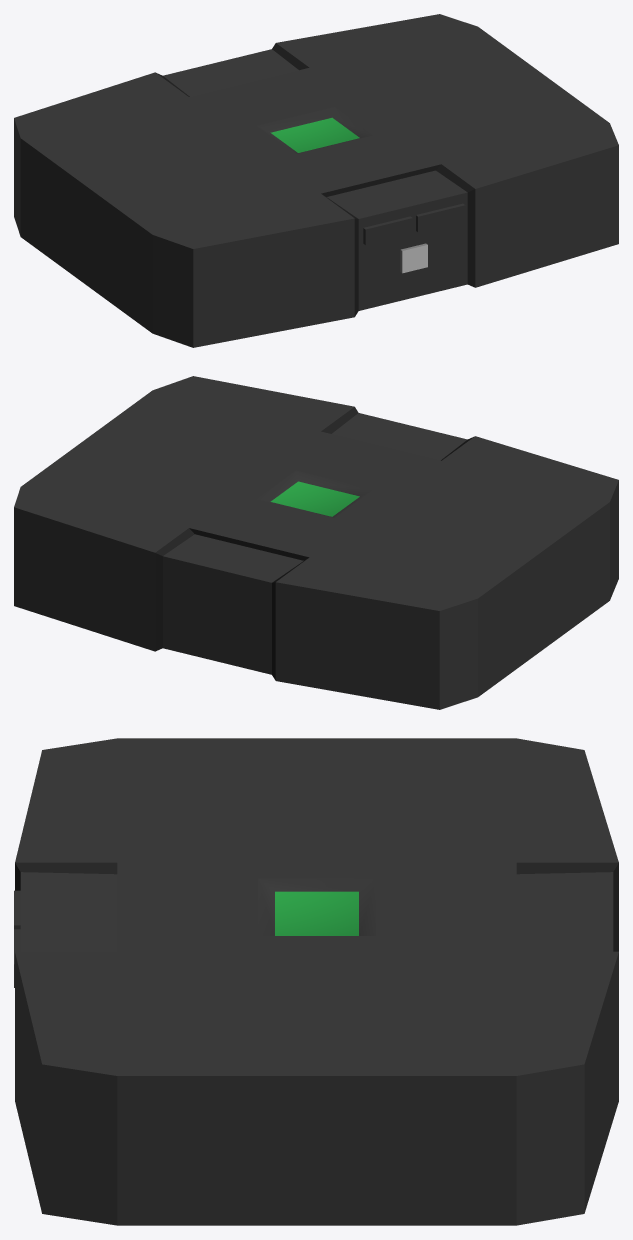
Rendered from console.glb.
3 renders of one model, top to bottom at view 1: azimuth 30°, elevation 25°; view 2: azimuth 150°, elevation 25°; view 3: azimuth 270°, elevation 25°, orthographic. The views are drawn at different scales.
Visible parts, largest first — view 1: Console Zbox 1; view 2: Console Zbox 1; view 3: Console Zbox 1.
Part boxes in pixels (x1=…): Console Zbox 1: x1=14, y1=14, x2=618, y2=347; Console Zbox 1: x1=14, y1=376, x2=618, y2=709; Console Zbox 1: x1=14, y1=738, x2=618, y2=1225.
Size of the model in its own units: 0.5201 by 0.1074 by 0.3938.
1 material, 1 textured.
